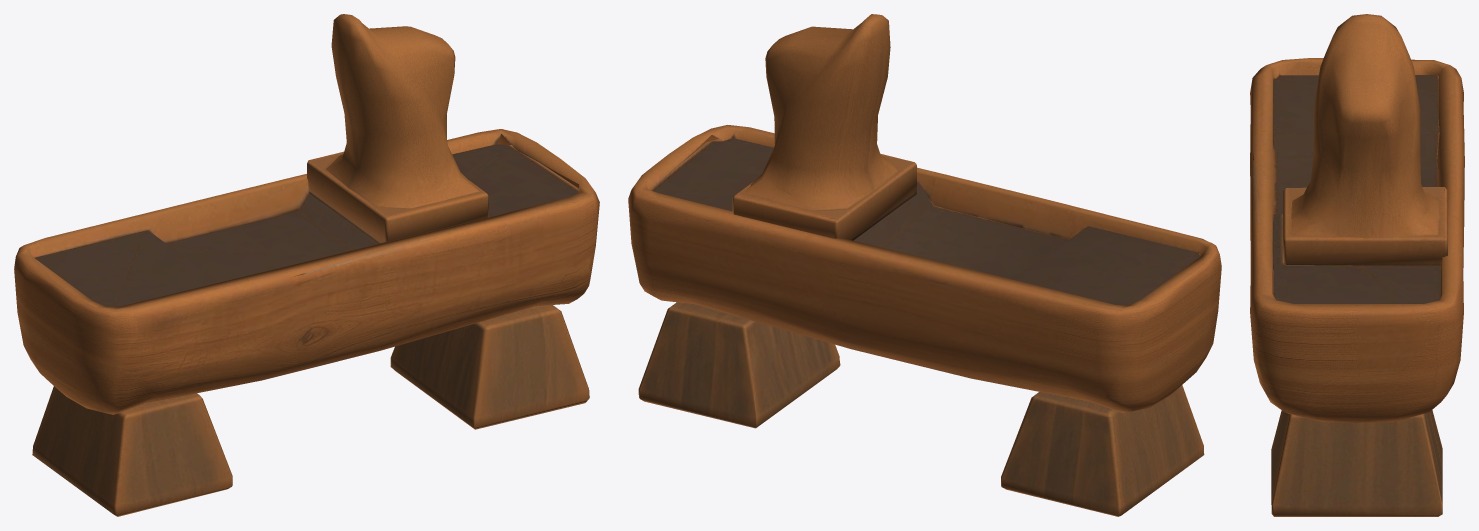
The model's file is pasture-trough.glb.
3 views of the same model, side by side, from view 1: azimuth 30°, elevation 25°; view 2: azimuth 150°, elevation 25°; view 3: azimuth 270°, elevation 25° (orthographic). The views are drawn at different scales.
Size of the model in its own units: 0.9575 by 0.707 by 0.3378.
Materials: 1 (1 with a texture image).
